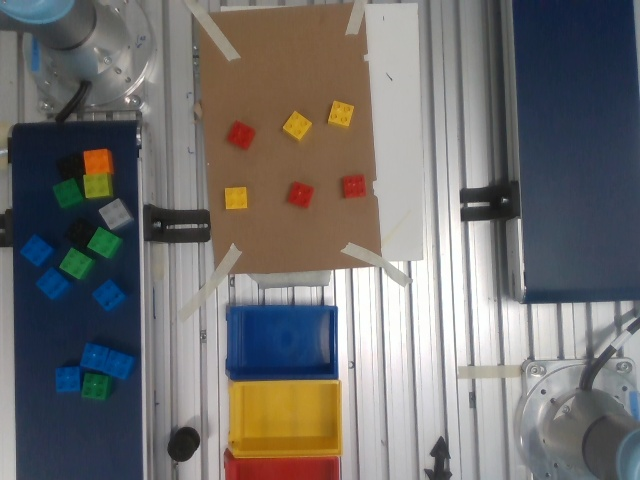duplo_4_red: (225, 114, 257, 153), (284, 176, 317, 210), (341, 169, 368, 200)
duplo_4_yellow: (281, 105, 315, 145), (325, 99, 359, 130), (224, 180, 252, 215)
